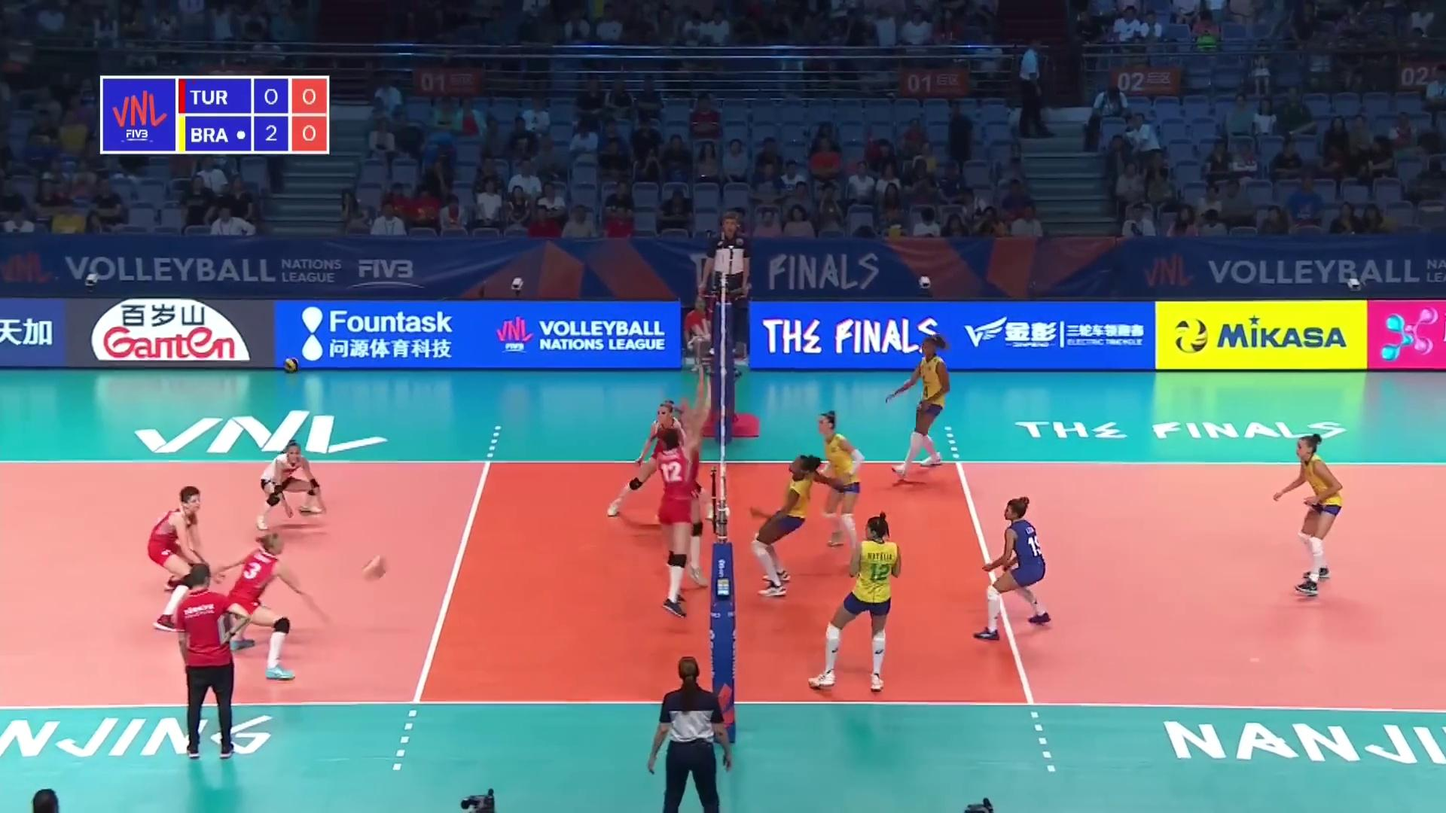player: (809, 515, 904, 694), (218, 531, 318, 681), (629, 423, 704, 621), (747, 456, 840, 600), (1271, 428, 1347, 595), (144, 487, 220, 633), (977, 500, 1053, 638), (613, 401, 692, 530), (890, 337, 960, 476), (806, 412, 867, 552), (254, 437, 327, 529)
refree: (641, 655, 735, 813), (695, 208, 756, 370)
